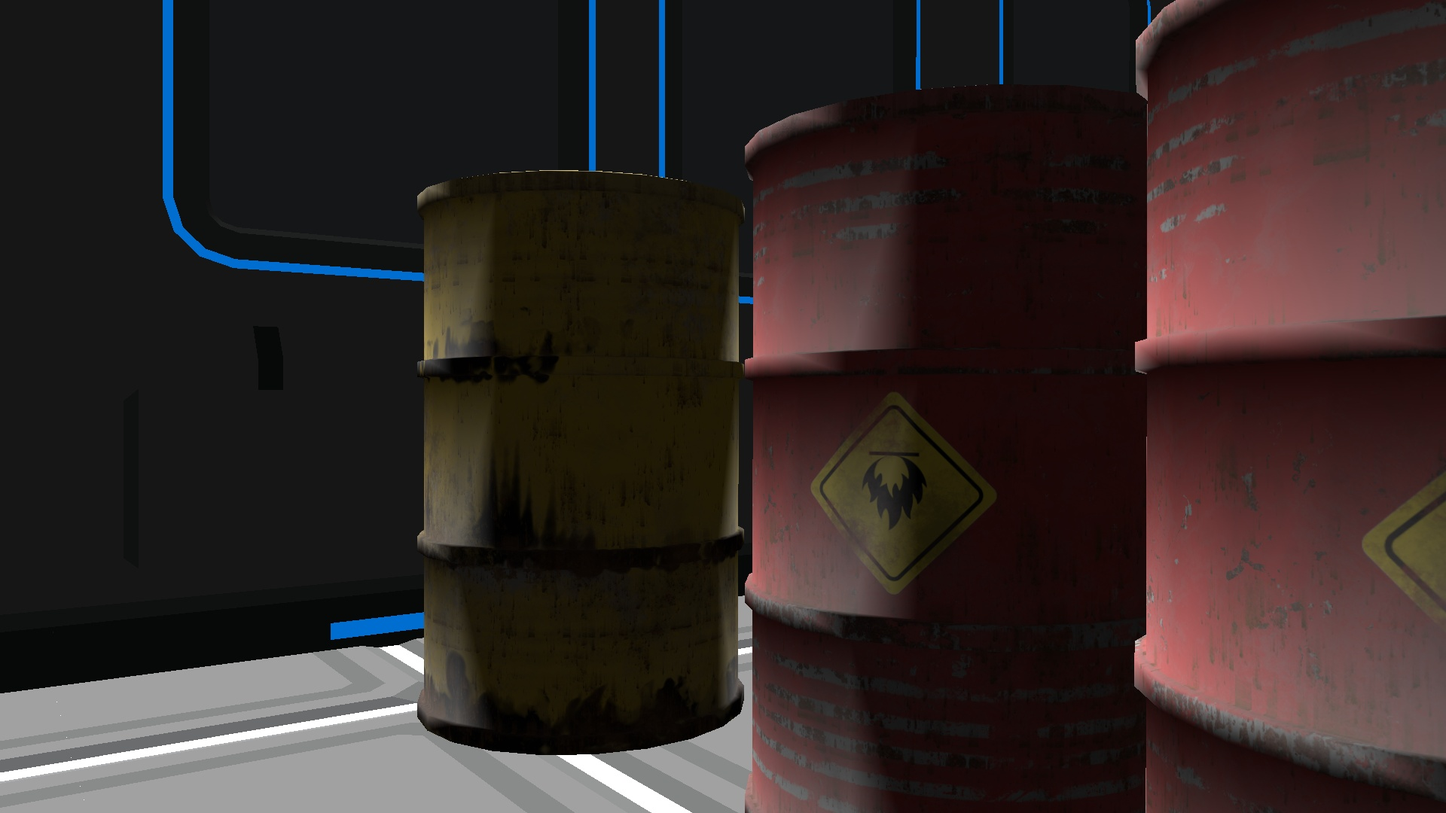toxic barrel: (745, 88, 1146, 813), (1135, 0, 1446, 813), (414, 170, 746, 756)
